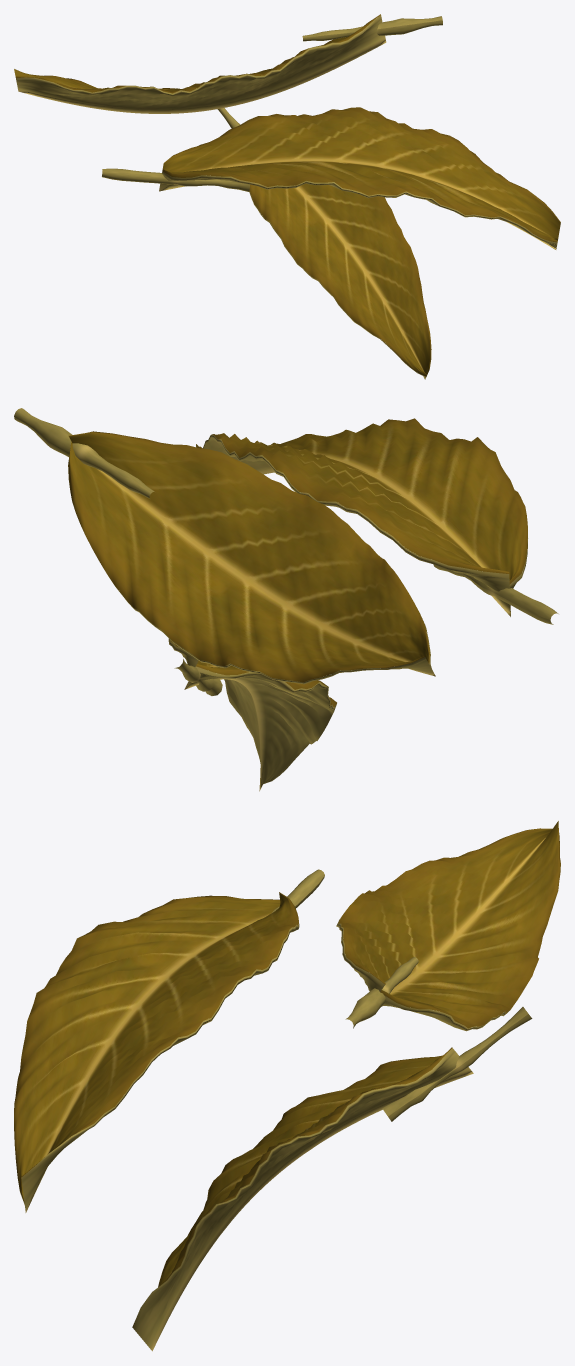
Rendered from bay-leaves.glb.
The picture shows the model from 3 angles, top to bottom: view 1: azimuth 30°, elevation 25°; view 2: azimuth 150°, elevation 25°; view 3: azimuth 270°, elevation 25°; orthographic projection. The views are drawn at different scales.
Visible parts, largest first — view 1: bay-leaves-top, bay-leaves-underside; view 2: bay-leaves-top, bay-leaves-underside; view 3: bay-leaves-top, bay-leaves-underside.
Boxes of the visible parts, <box> form: bay-leaves-top: <box>14,14,560,376</box>; bay-leaves-underside: <box>16,15,557,379</box>; bay-leaves-top: <box>68,418,527,706</box>; bay-leaves-underside: <box>14,408,558,791</box>; bay-leaves-top: <box>14,821,560,1327</box>; bay-leaves-underside: <box>17,869,532,1351</box>.
Bounding box in the file's own units: 0.0961 × 0.0764 × 0.0952.
2 materials, 2 textured.
